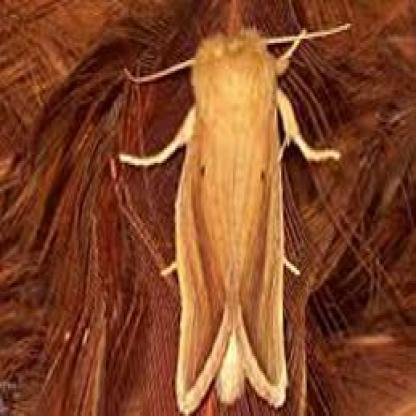stem-borer: (167, 23, 295, 416)
